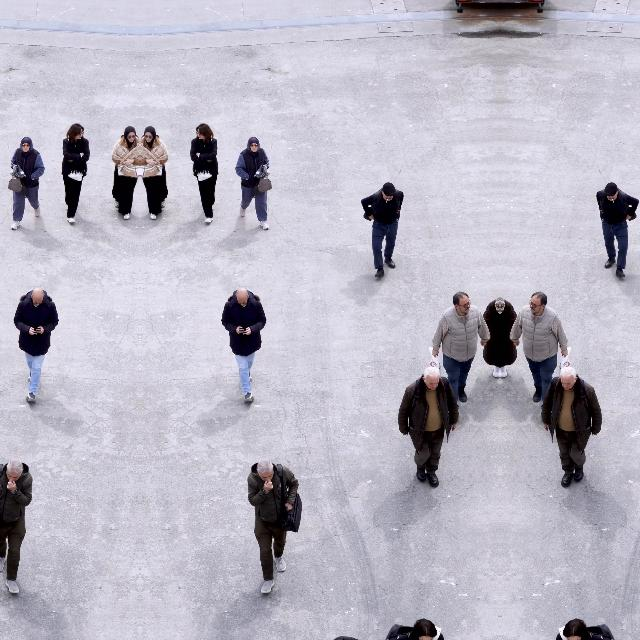person: (540, 366, 602, 488), (398, 366, 459, 488), (247, 460, 301, 594), (432, 291, 491, 403), (509, 291, 568, 403), (221, 288, 267, 404), (13, 288, 59, 404), (0, 459, 33, 594), (596, 182, 640, 278), (361, 182, 404, 278), (234, 137, 272, 231), (8, 137, 46, 231), (189, 123, 219, 225), (61, 123, 91, 225), (140, 126, 168, 220), (112, 126, 140, 220), (482, 297, 500, 379), (500, 297, 518, 379), (386, 618, 444, 640), (556, 618, 614, 640)
